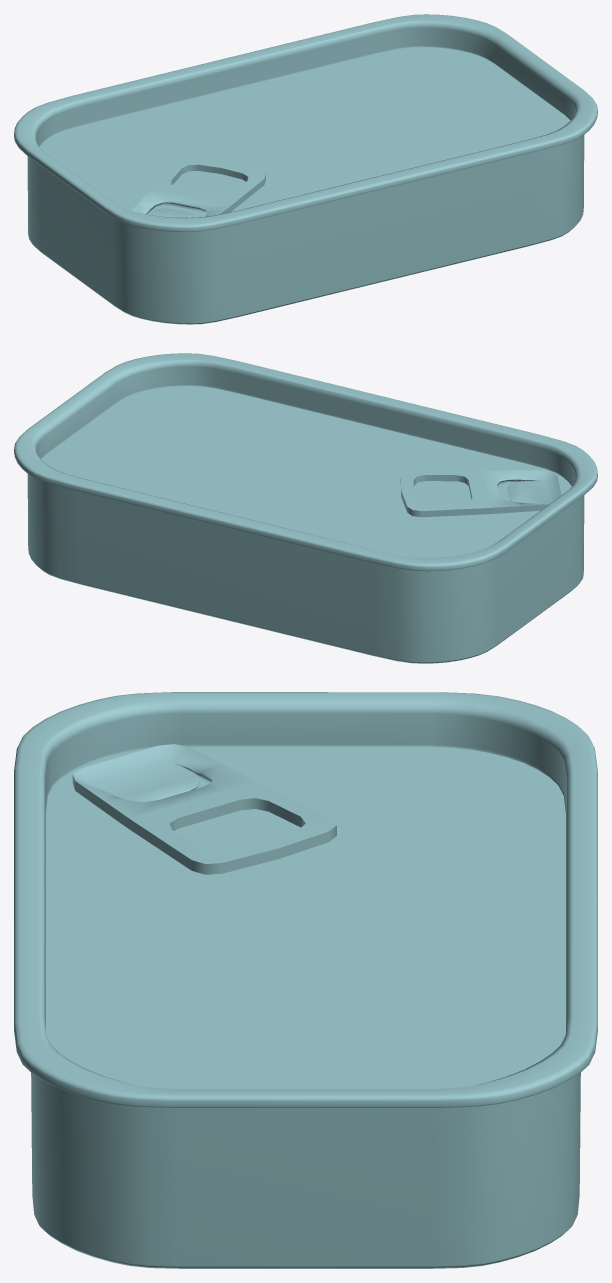
The model's file is generic_sardines.gltf.
3 views of the same model, one above another, from view 1: azimuth 30°, elevation 25°; view 2: azimuth 150°, elevation 25°; view 3: azimuth 270°, elevation 25° (orthographic). The views are drawn at different scales.
Parts seen in each view (by area): view 1: long_life_food_sardines; view 2: long_life_food_sardines; view 3: long_life_food_sardines.
Part boxes in pixels (x1,y1,x2,y2): long_life_food_sardines: (14,14,597,324); long_life_food_sardines: (14,353,597,663); long_life_food_sardines: (14,692,597,1268).
Size of the model in its own units: 0.1313 by 0.0275 by 0.0796.
